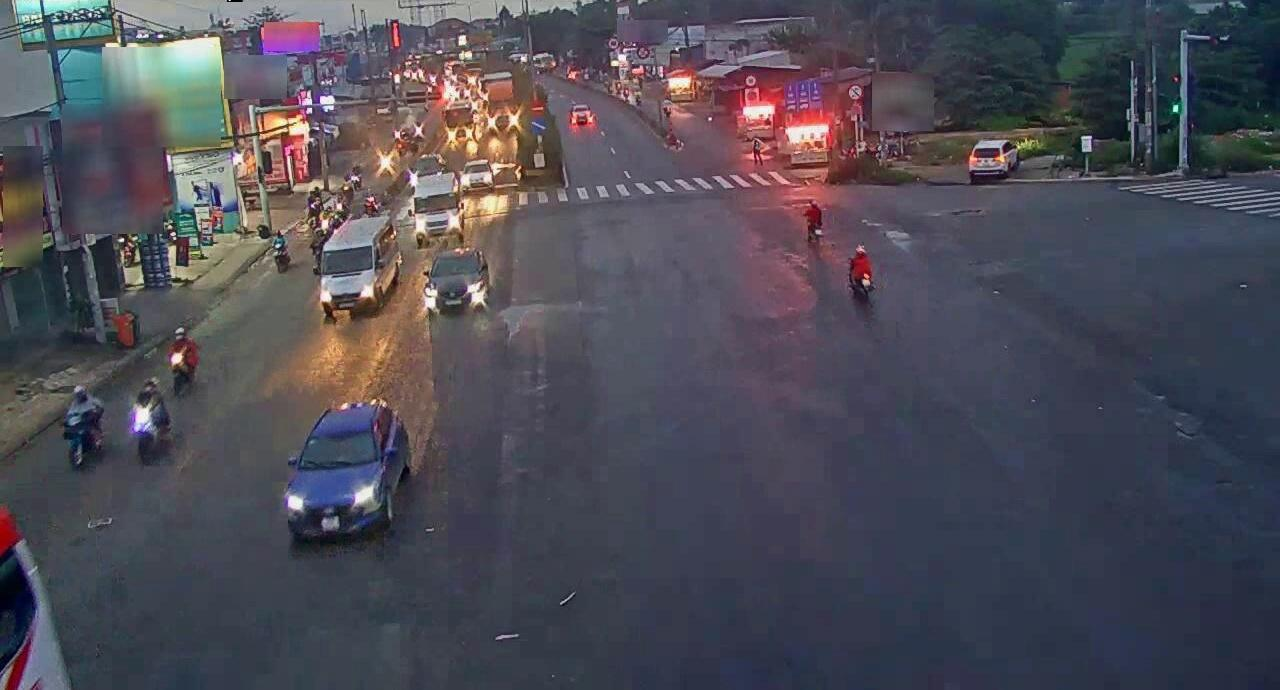xe hoi: (288, 400, 419, 544), (423, 249, 489, 323)
xe may: (60, 382, 107, 471), (128, 382, 172, 468)
xe van: (317, 216, 403, 318)
